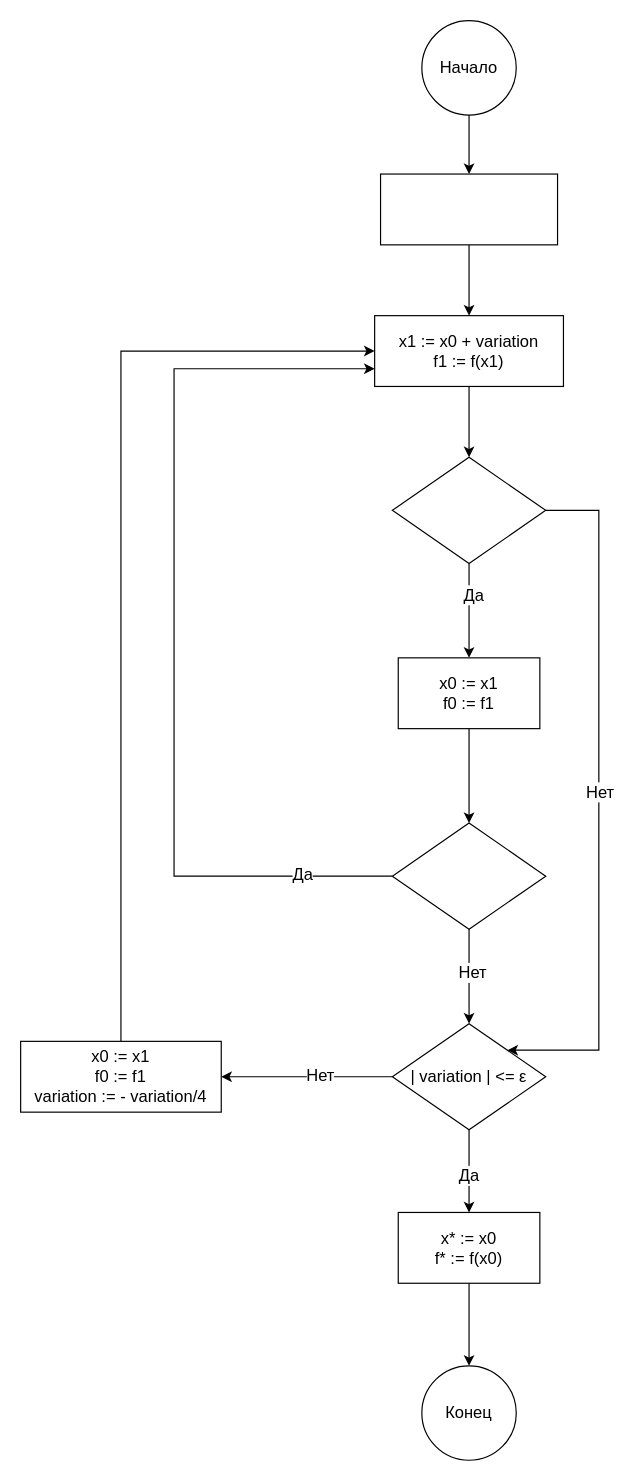
The diagram is 634 pixels wide and 1481 high, and some of its shapes have lost their labels. The shapes that lost their labels are listed below. From the top down, each one's centre as x and y in pixels, then its label:
(468,209): variation := (b - a)/4 x0 := a f0 := f(x0)
(468,509): f0 > f1
(468,875): x0 ∈ (a;b)
